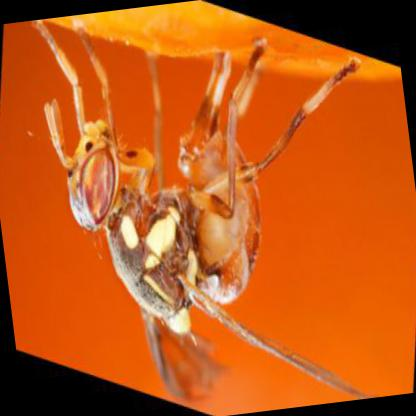fruit fly: (33, 23, 361, 399)
